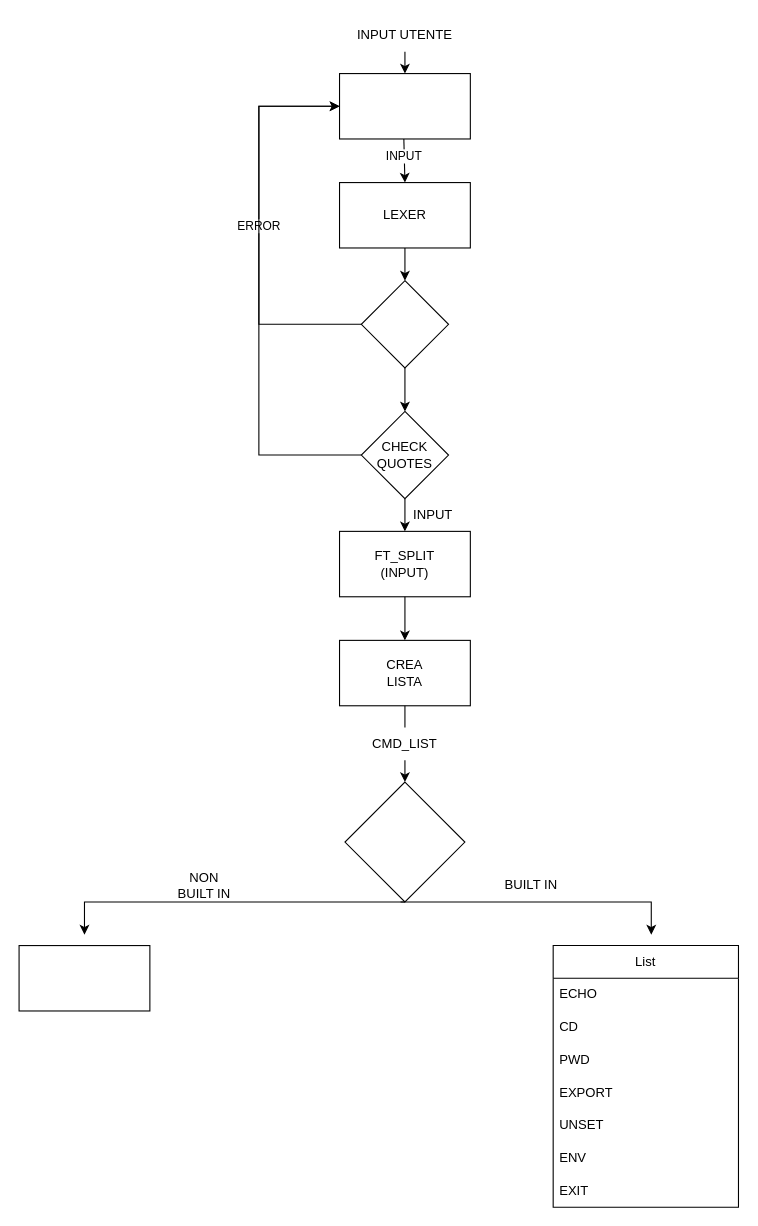
Some shapes in this 758 by 1226 pixel diagram are drawn without their labels. The centre of each missing label's shape, as x and y in pixels:
"CHECK CHAR" belongs at pixel 404 324.
"CHECK COMMAND" belongs at pixel 404 841.
"MAIN" belongs at pixel 404 105.
